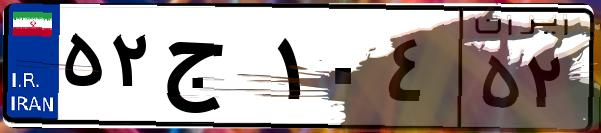0: (330, 28, 385, 110)
1: (270, 28, 330, 110)
2: (525, 38, 570, 115), (110, 28, 158, 98)
4: (385, 28, 445, 110)
5: (57, 26, 110, 100), (475, 38, 525, 113)
ج: (158, 20, 270, 120)
